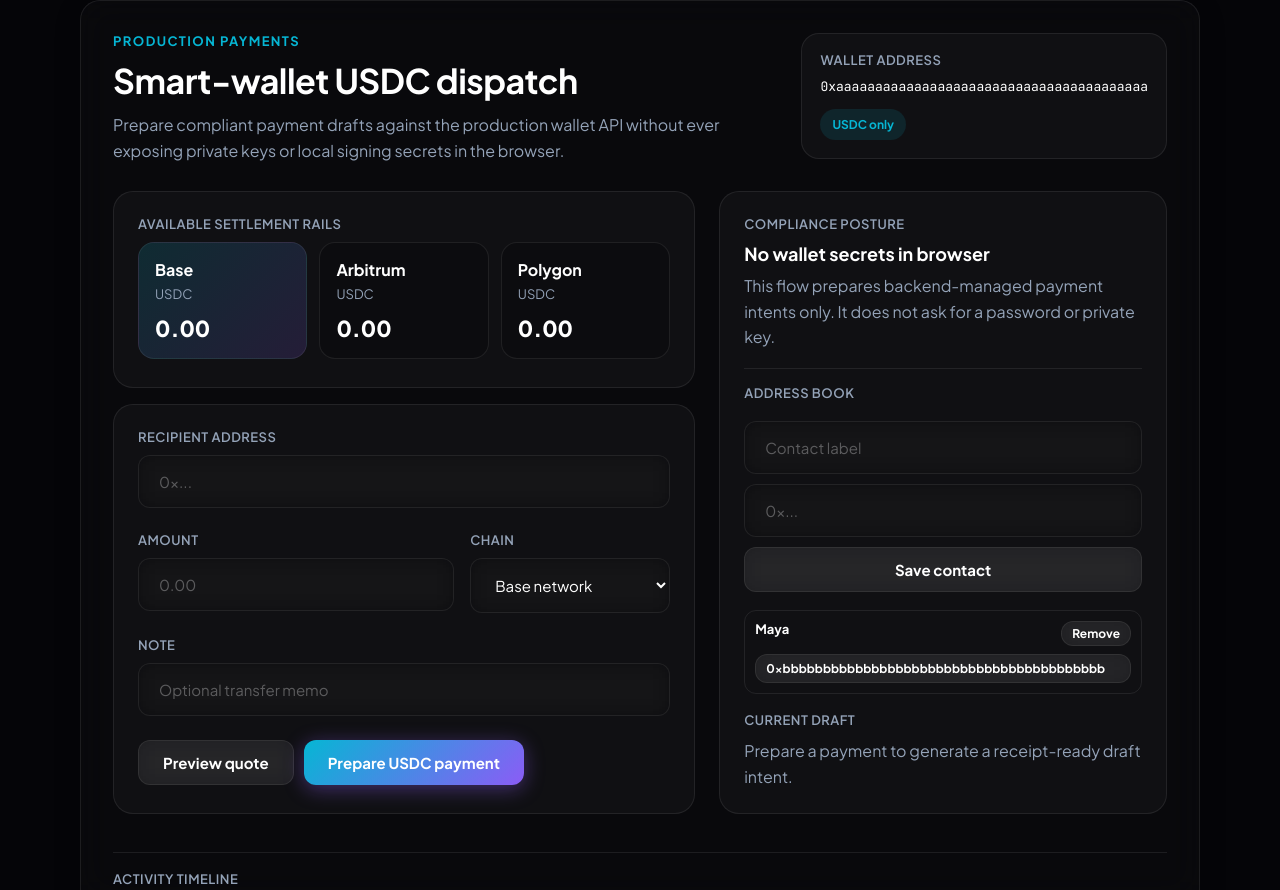
Test: ProductionWalletApp › deletes a saved contact from the address book
This screenshot has width=1280, height=890.
Expected: the text "Maya" is shown, x1=755 y1=621 x2=789 y2=646
Click the button "Remove": (1096, 634) x1=1061 y1=621 x2=1131 y2=646
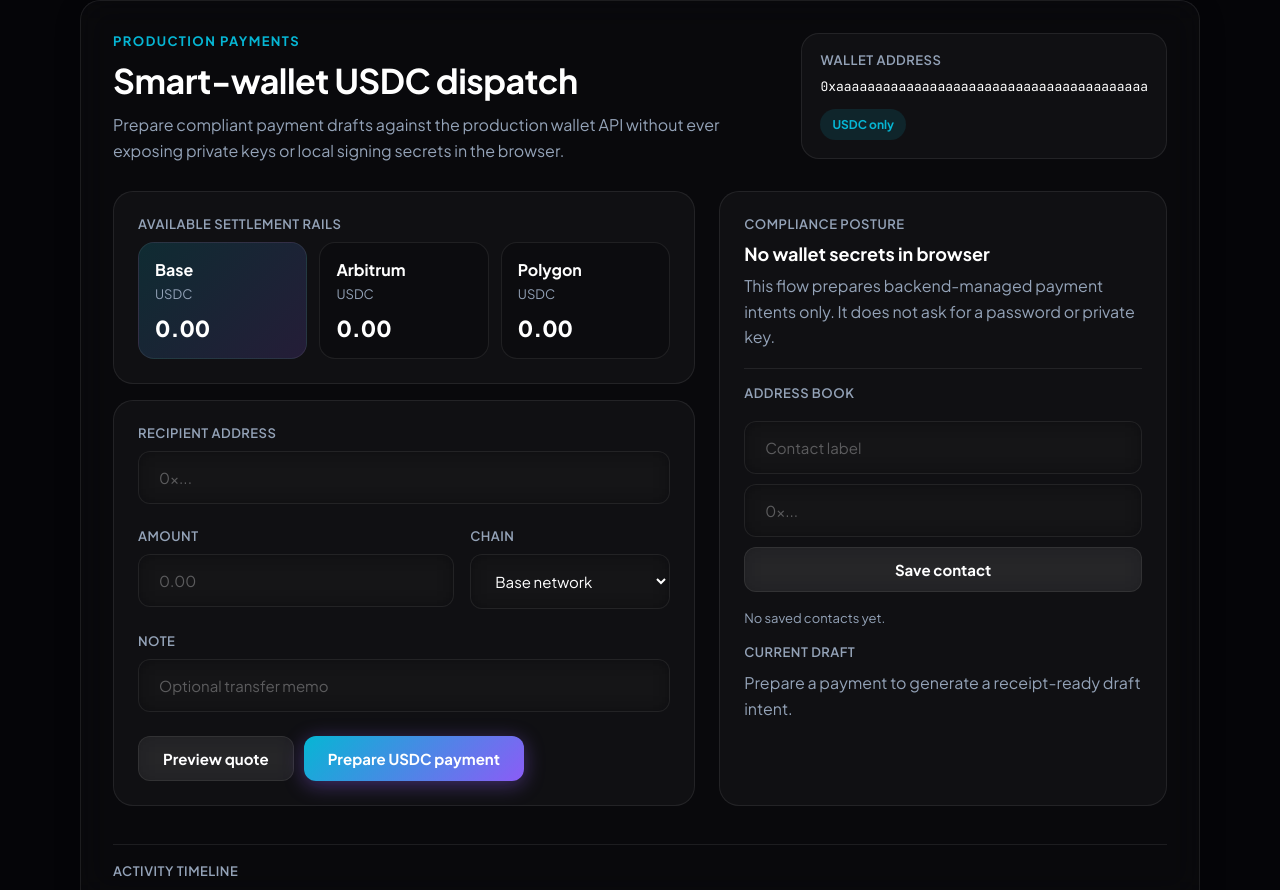
Expected: the text "Maya" is gone
